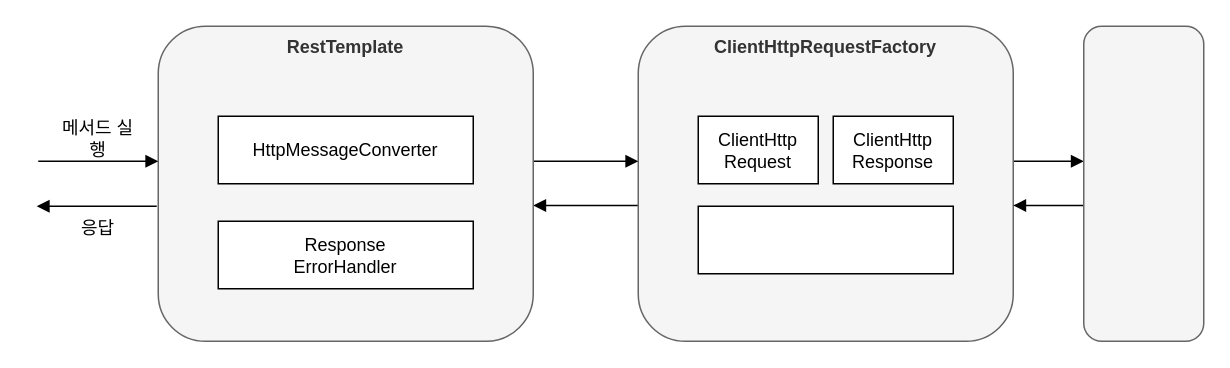
The diagram is 1230 pixels wide and 368 high, and some of its shapes have lost their labels. Each missing label, with the centre of its shape:
ClientHttpRequest Interceptor: point (825, 239)
서버: point (1143, 183)
